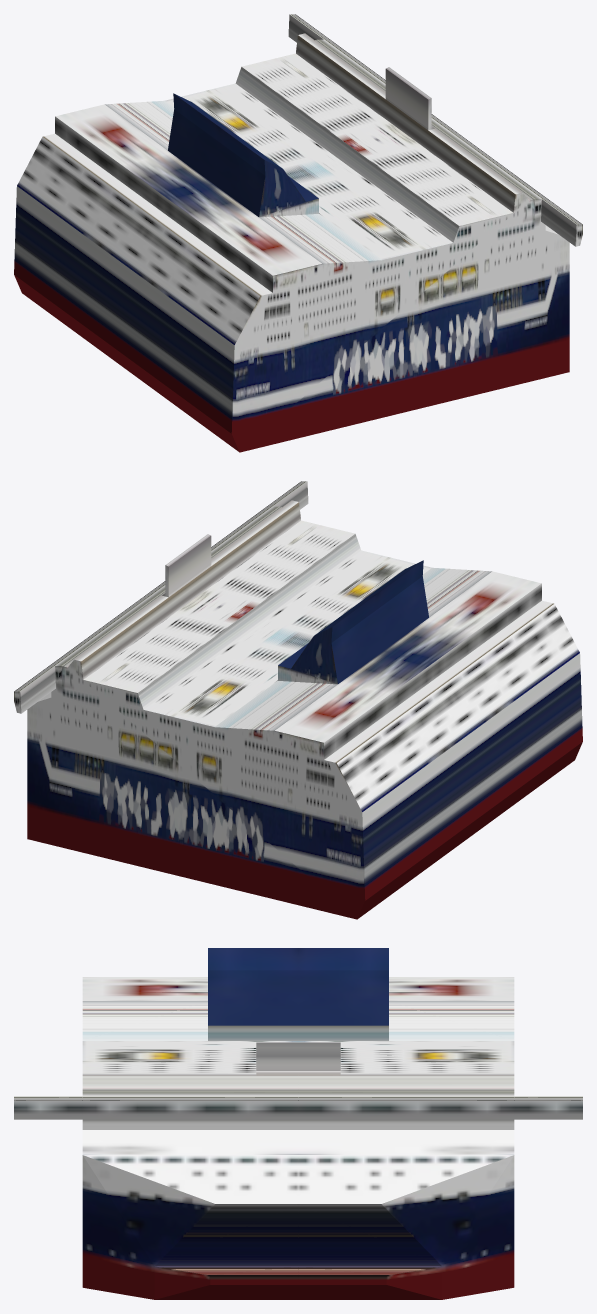
The model's file is CruiseBigNormXY_Norm2Z.glb.
3 views of the same model, one above another, from view 1: azimuth 30°, elevation 25°; view 2: azimuth 150°, elevation 25°; view 3: azimuth 270°, elevation 25° (orthographic).
Visible parts, largest first — view 1: CruiseBig; view 2: CruiseBig; view 3: CruiseBig.
Part boxes in pixels (x1=…): CruiseBig: x1=14, y1=14, x2=582, y2=452; CruiseBig: x1=14, y1=481, x2=582, y2=919; CruiseBig: x1=14, y1=948, x2=582, y2=1299.
Bounding box in the file's own units: 0.9964 × 0.5657 × 1.31.
1 material, 1 textured.
